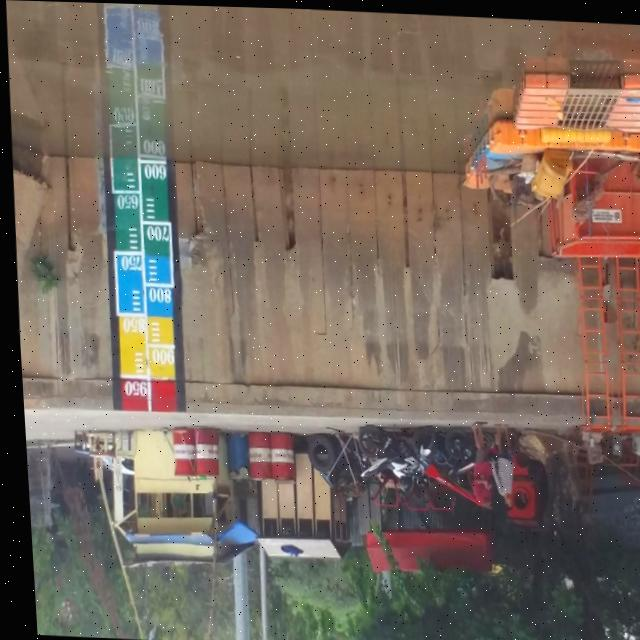water-meter: (92, 123, 192, 420)
